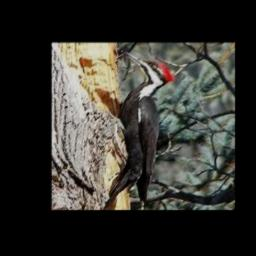Woodpecker: (105, 52, 174, 210)
